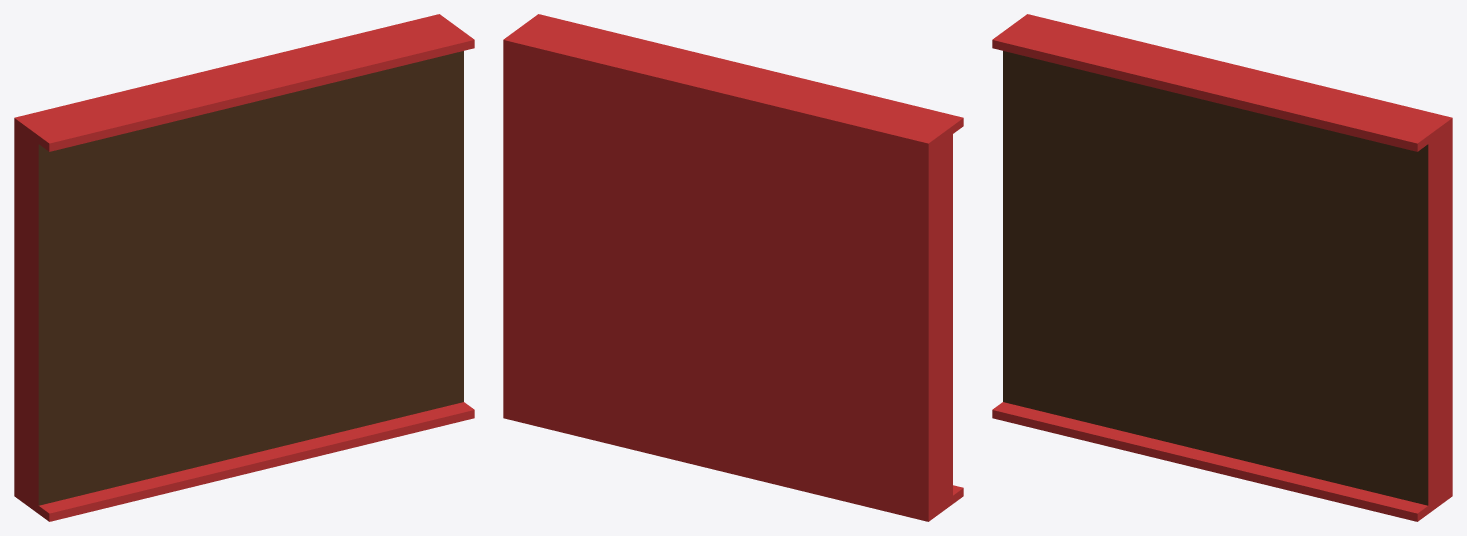
File: ramp_flat.glb
The picture shows the model from 3 angles, left to right: view 1: azimuth 30°, elevation 25°; view 2: azimuth 150°, elevation 25°; view 3: azimuth 330°, elevation 25°; orthographic projection.
Visible parts, largest first — view 1: bridge_08_ramp_flat; view 2: bridge_08_ramp_flat; view 3: bridge_08_ramp_flat.
Boxes of the visible parts, x1=… form: bridge_08_ramp_flat: x1=14, y1=14, x2=474, y2=521; bridge_08_ramp_flat: x1=503, y1=14, x2=963, y2=521; bridge_08_ramp_flat: x1=992, y1=14, x2=1452, y2=521.
Bounding box in the file's own units: 16 × 13.6 × 2.3.
